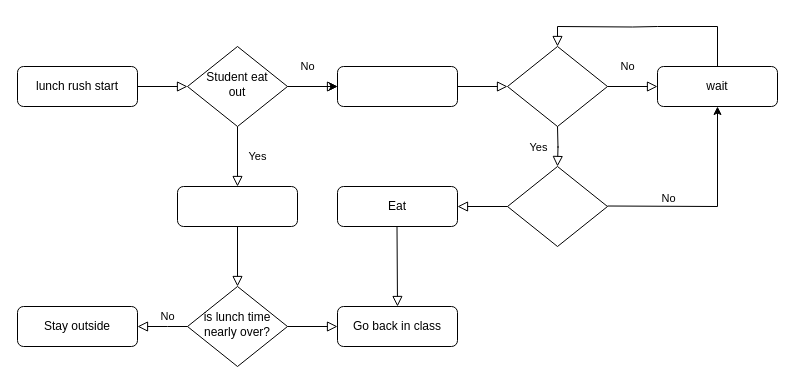
Image size: 795x384. Some labels were removed from this diagram. The shapes that lost their labels are listed below. From the top down, each one's centre as x and y in pixels, then its label:
At [397,86]: "Go to Cafeteria".
At [557,86]: "Can they access fridge".
At [237,206]: "Exit Building".
At [557,206]: "Is a microwave free".
